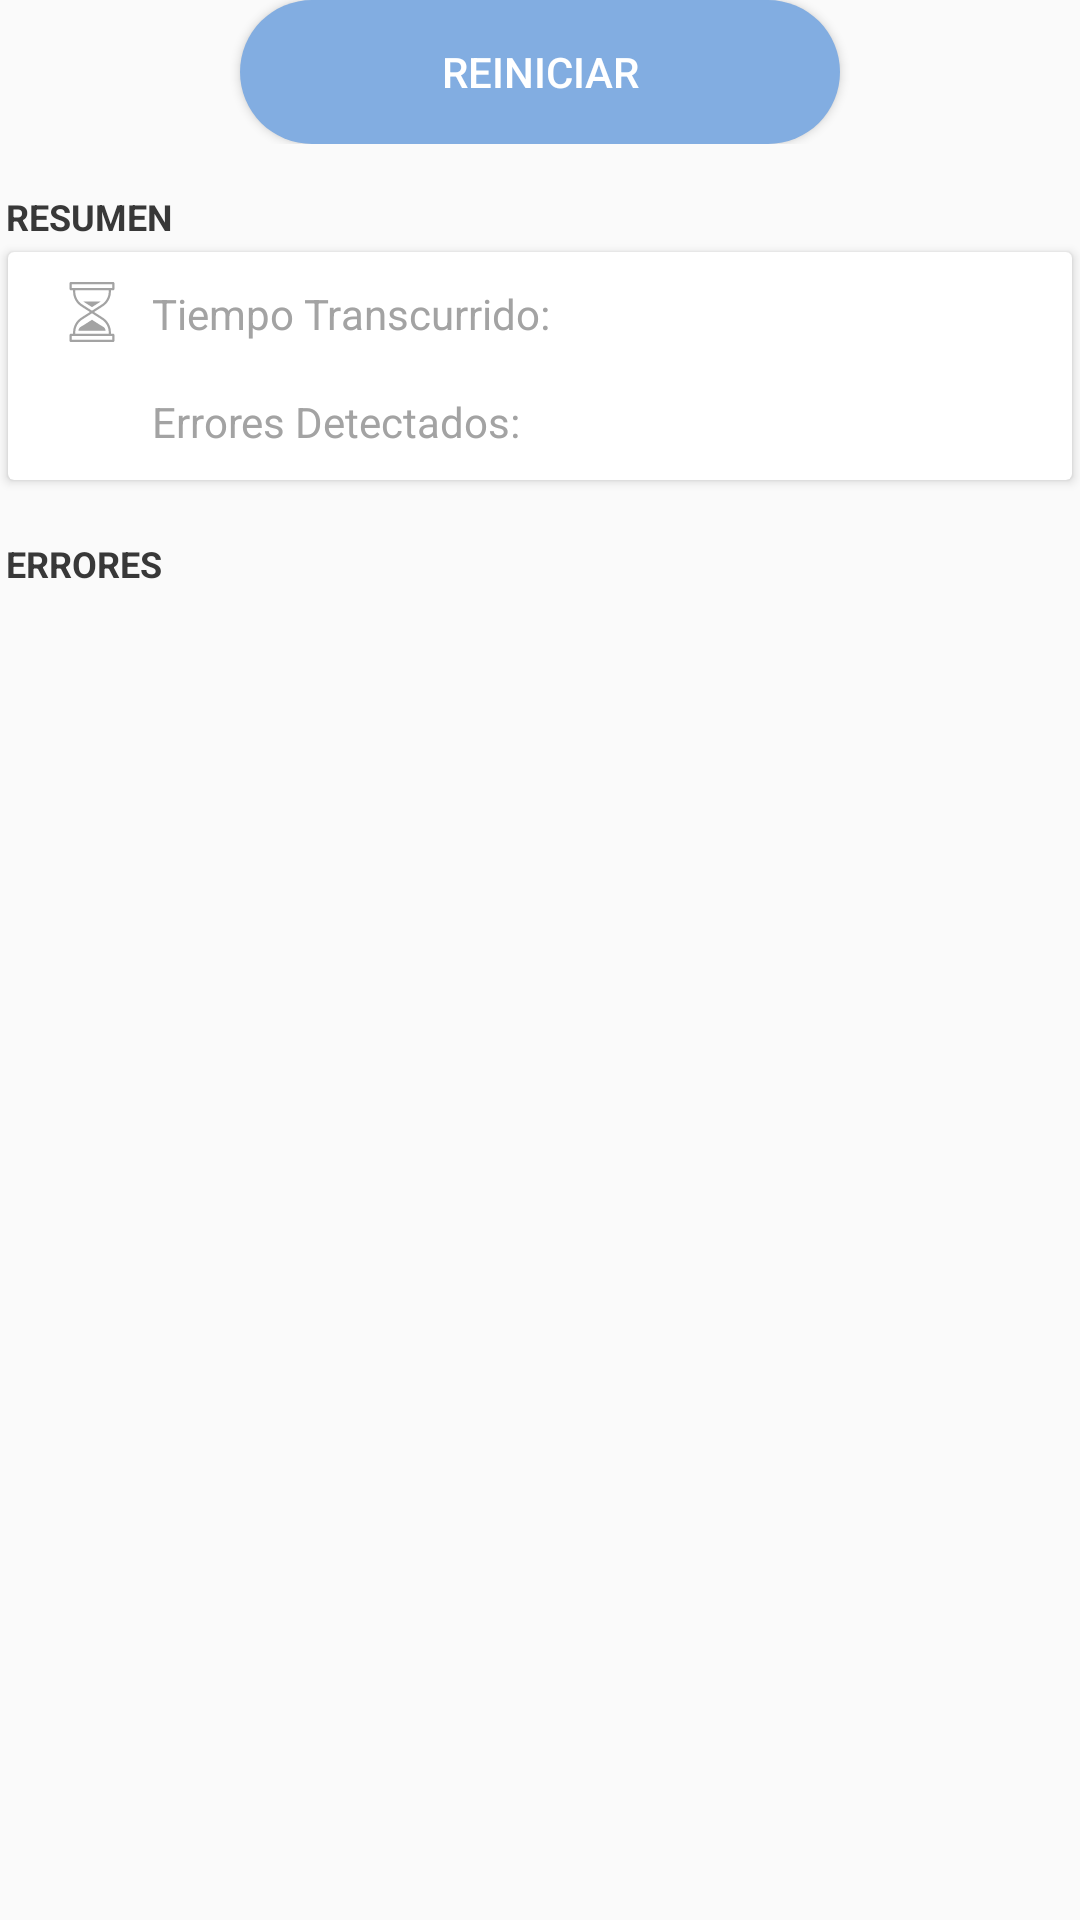

Icon click points for this 1080px x 1920px phone screenshot, format (x,y):
hourglass: (92,312)
